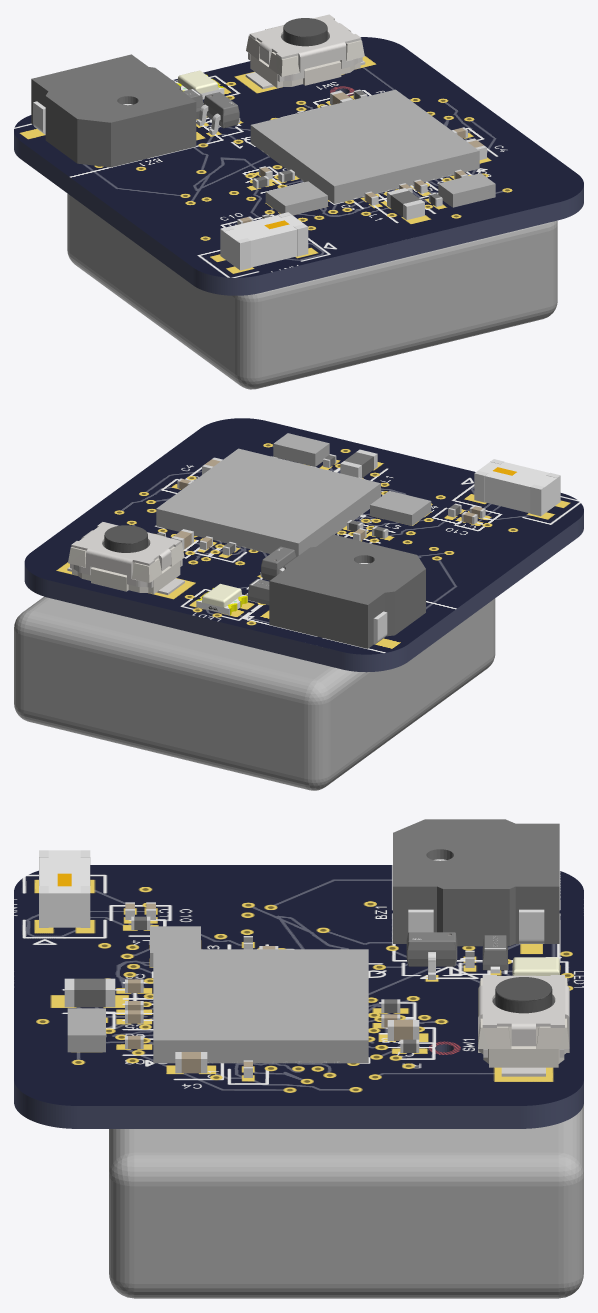
Rendered from safewalk-tag.glb.
The picture shows the model from 3 angles, top to bottom: view 1: azimuth 30°, elevation 25°; view 2: azimuth 150°, elevation 25°; view 3: azimuth 270°, elevation 25°; orthographic projection. The views are drawn at different scales.
Visible parts, largest first — view 1: Box0, BT1, U1, BZ1, SW1, ANT1, X1, X2, Q1, L1, LED1; view 2: BT1, Box0, U1, BZ1, SW1, ANT1, X1, X2, LED1, L1, Q1, D1; view 3: Box0, BT1, U1, BZ1, SW1, ANT1, Q1, X2, L1, X1, D1, LED1 (+2 smaller).
Part boxes in pixels (x1,y1,x2,y2): Box0: [14, 37, 583, 295]; BT1: [67, 193, 557, 389]; U1: [250, 89, 479, 203]; BZ1: [31, 54, 196, 167]; SW1: [245, 14, 365, 88]; ANT1: [220, 212, 308, 270]; X1: [265, 181, 327, 215]; X2: [438, 173, 495, 207]; Q1: [196, 92, 240, 135]; L1: [387, 188, 424, 219]; LED1: [175, 70, 224, 99]; BT1: [14, 596, 495, 790]; Box0: [24, 418, 583, 672]; U1: [156, 448, 380, 556]; BZ1: [269, 534, 425, 648]; SW1: [67, 522, 184, 594]; ANT1: [474, 459, 560, 516]; X1: [370, 491, 431, 525]; X2: [273, 433, 329, 466]; LED1: [196, 583, 247, 615]; L1: [340, 449, 377, 478]; Q1: [260, 546, 296, 580]; D1: [246, 579, 269, 605]; Box0: [14, 865, 583, 1128]; BT1: [109, 1104, 583, 1298]; U1: [153, 949, 368, 1063]; BZ1: [393, 819, 559, 946]; SW1: [478, 975, 569, 1076]; ANT1: [39, 850, 90, 927]; Q1: [406, 932, 457, 979]; X2: [67, 1008, 105, 1052]; L1: [64, 978, 115, 1007]; X1: [150, 926, 200, 967]; D1: [482, 935, 507, 973]; LED1: [512, 957, 560, 975].
Bounding box in the file's own units: 18 × 9.01 × 18.
30 materials, 2 textured.
